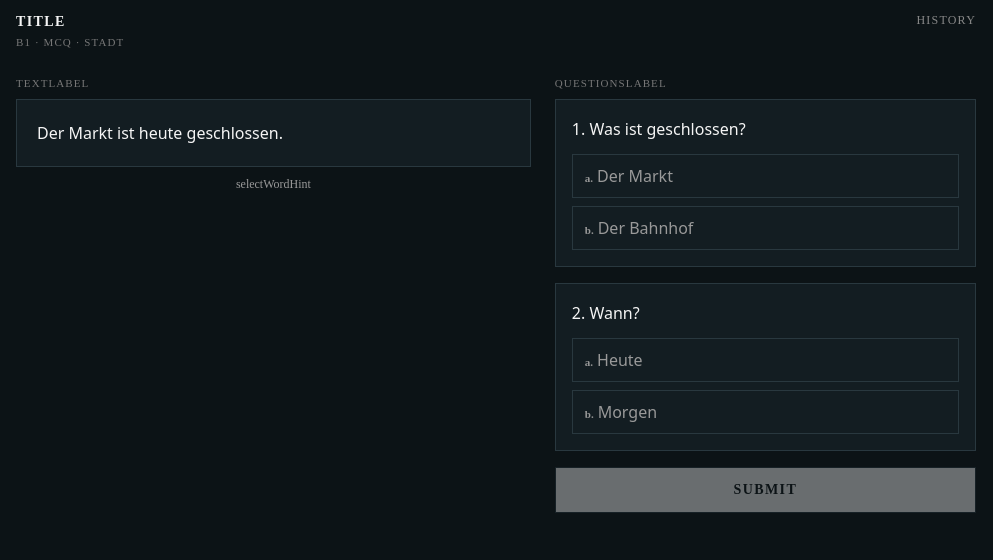
it: ReadingPage › surfaces an already-attempted rejection and keeps the exercise
The image size is (993, 560).
Expected: the text "Der Markt ist heute geschlossen." is shown, [37,122,283,144]
What coordinates should you click on to do the following:
click the button "a. Der Markt"
I would click on:
 (635, 176)
Its box is [572,154,959,198].
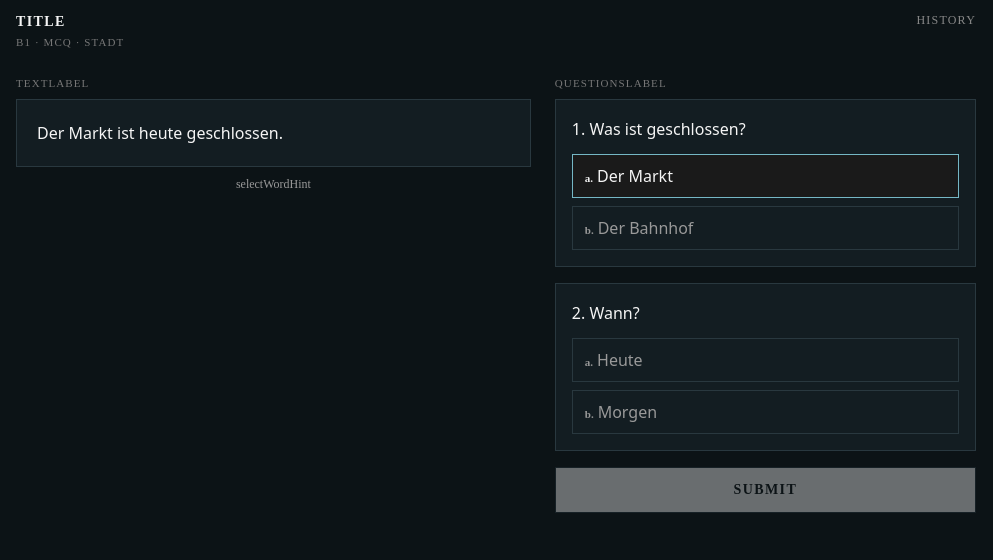
What coordinates should you click on to do the following:
click the button "b. Morgen"
I would click on:
 (627, 412)
Its box is [572,390,959,434].
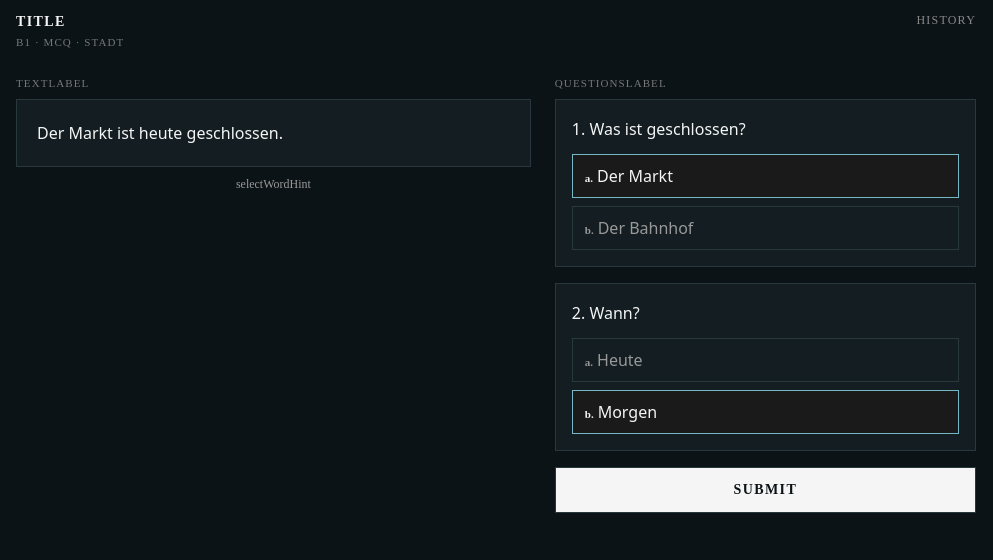
Now the button "submit" is enabled
What coordinates should you click on to do the following:
click the button "submit"
I would click on:
 (765, 490)
Its box is [555,467,976,513].
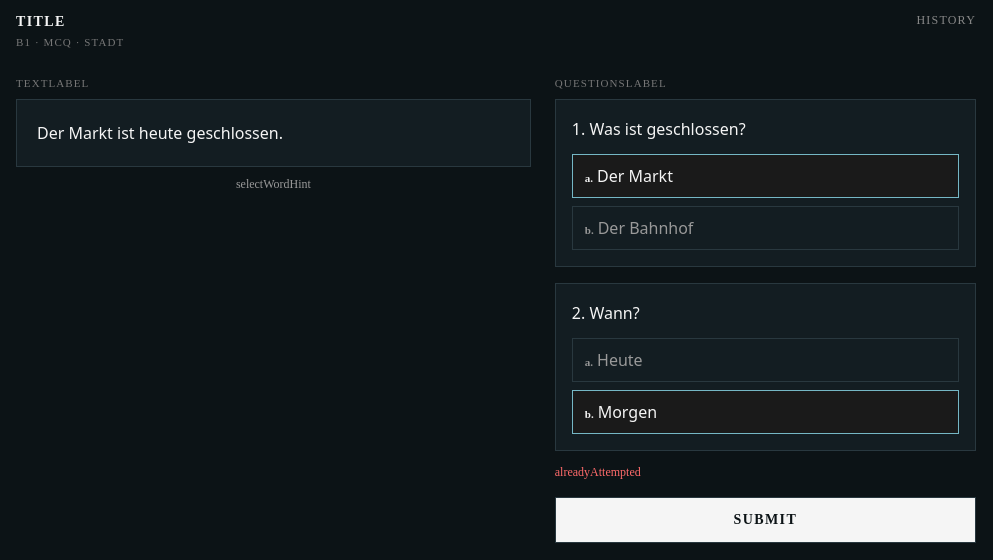
Expected: the button "submit" is shown, [555,497,976,543]
Now the text "alreadyAttempted" is shown, box [555,465,641,479]
